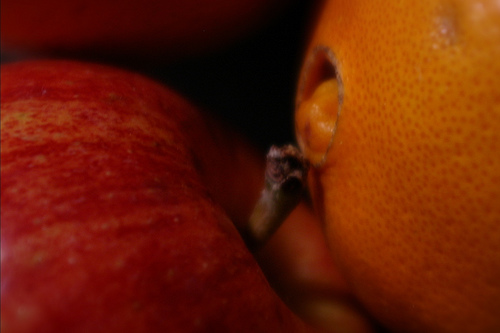apple: (1, 57, 385, 332)
